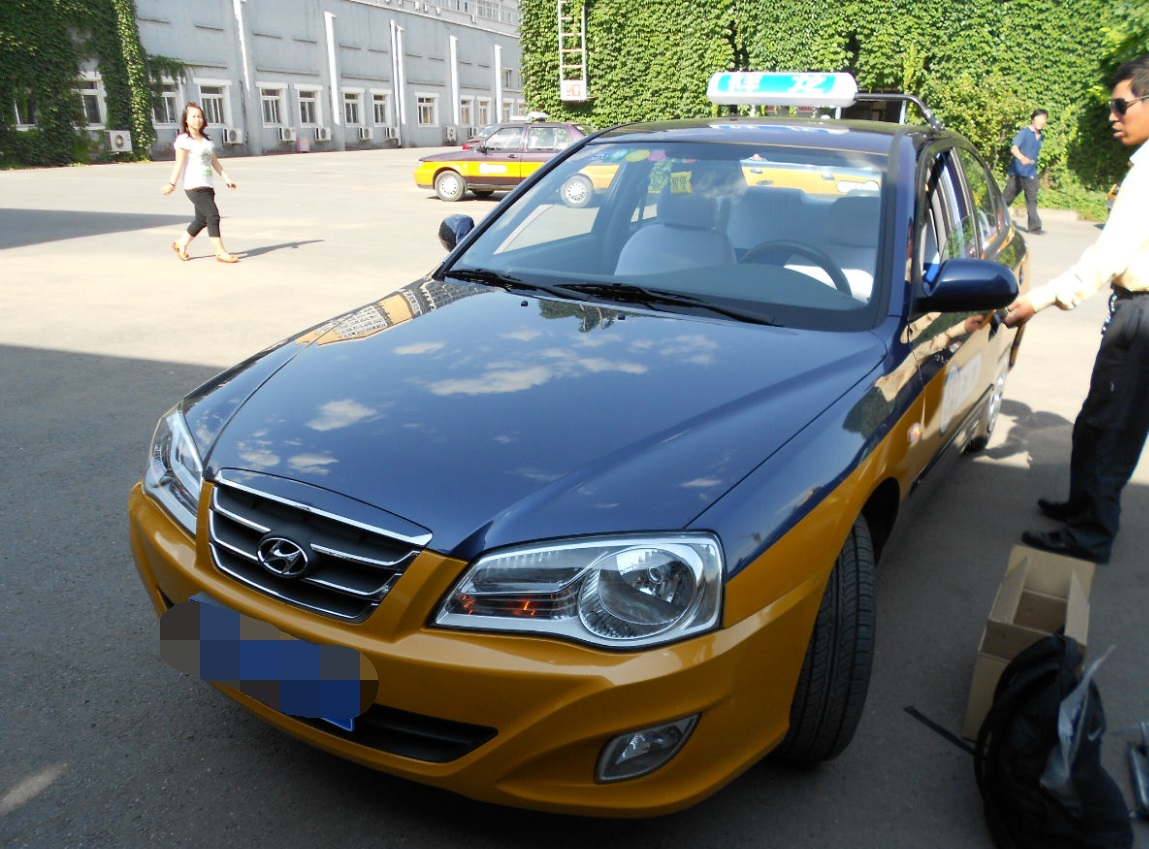taxi: (125, 65, 1038, 848)
